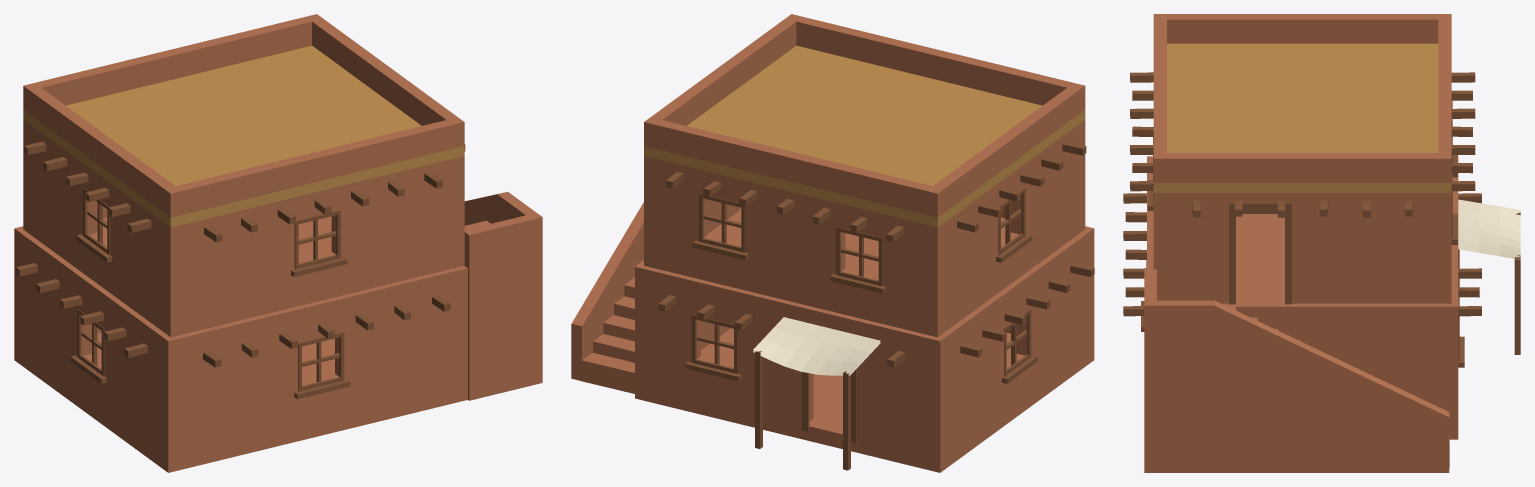
Rendered from house.glb.
3 views of the same model, side by side, from view 1: azimuth 30°, elevation 25°; view 2: azimuth 150°, elevation 25°; view 3: azimuth 270°, elevation 25° (orthographic).
Visible parts, largest first — view 1: roof-col, ground_wall_back-col, upper_wall_back-col, upper_wall_left-col, ground_wall_left-col, stair-col, upper_slab-col, ground_floor-col, ground_wall_front-col; view 2: roof-col, upper_wall_front-col, ground_wall_front-col, ground_wall_left-col, upper_wall_left-col, upper_slab-col, ground_floor-col, stair-col, awning-col, upper_wall_right-col, upper_wall_back-col, ground_wall_back-col; view 3: roof-col, stair-col, upper_wall_right-col, ground_wall_right-col, upper_slab-col, upper_wall_front-col, awning-col, upper_wall_back-col, ground_wall_front-col, ground_wall_back-col.
Boxes of the visible parts, x1,y1,x2,y2 form: roof-col: [23, 14, 464, 227]; ground_wall_back-col: [159, 280, 467, 462]; upper_wall_back-col: [162, 156, 464, 337]; upper_wall_left-col: [23, 120, 185, 337]; ground_wall_left-col: [14, 241, 183, 461]; stair-col: [464, 192, 542, 400]; upper_slab-col: [14, 216, 467, 352]; ground_floor-col: [14, 332, 467, 472]; ground_wall_front-col: [14, 241, 101, 353]; roof-col: [644, 14, 1085, 227]; upper_wall_front-col: [644, 156, 946, 337]; ground_wall_front-col: [635, 279, 948, 462]; ground_wall_left-col: [925, 245, 1094, 461]; upper_wall_left-col: [922, 126, 1086, 336]; upper_slab-col: [635, 207, 1094, 352]; ground_floor-col: [635, 328, 1094, 472]; stair-col: [571, 202, 643, 393]; awning-col: [753, 317, 880, 470]; upper_wall_right-col: [644, 157, 739, 268]; upper_wall_back-col: [1001, 120, 1085, 235]; ground_wall_back-col: [1006, 241, 1094, 355]; roof-col: [1153, 14, 1451, 192]; stair-col: [1144, 269, 1449, 472]; upper_wall_right-col: [1153, 193, 1451, 304]; ground_wall_right-col: [1257, 318, 1458, 428]; upper_slab-col: [1147, 156, 1458, 318]; upper_wall_front-col: [1434, 72, 1475, 303]; awning-col: [1458, 199, 1520, 354]; upper_wall_back-col: [1130, 72, 1171, 300]; ground_wall_front-col: [1440, 193, 1481, 428]; ground_wall_back-col: [1123, 193, 1146, 331].
Size of the model in its own units: 10.31 by 6.9 by 8.93.
